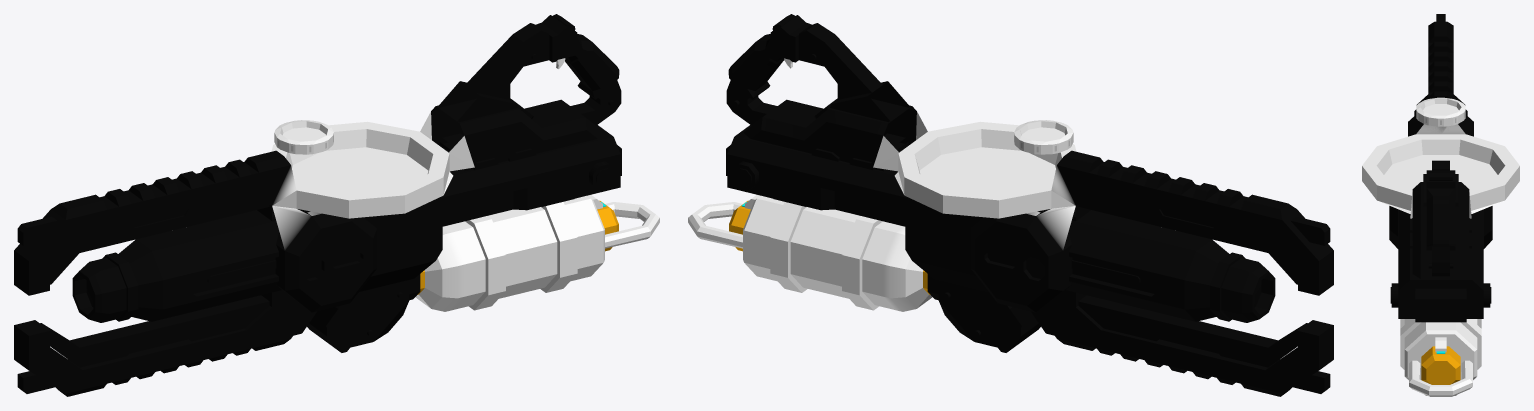
Rendered from M_GUN_2.fbx.
3 views of the same model, side by side, from view 1: azimuth 30°, elevation 25°; view 2: azimuth 150°, elevation 25°; view 3: azimuth 270°, elevation 25° (orthographic). The views are drawn at different scales.
Visible parts, largest first — view 1: SM_FT01_Cylinder, Cylinder; view 2: SM_FT01_Cylinder, Cylinder; view 3: SM_FT01_Cylinder, Cylinder.
Boxes of the visible parts, x1,y1,x2,y2 form: SM_FT01_Cylinder: [14, 14, 659, 396]; Cylinder: [274, 120, 333, 154]; SM_FT01_Cylinder: [688, 14, 1333, 396]; Cylinder: [1014, 120, 1073, 154]; SM_FT01_Cylinder: [1362, 14, 1519, 396]; Cylinder: [1416, 97, 1465, 126].
Bounding box in the file's own units: 100 × 40 × 25.66.
